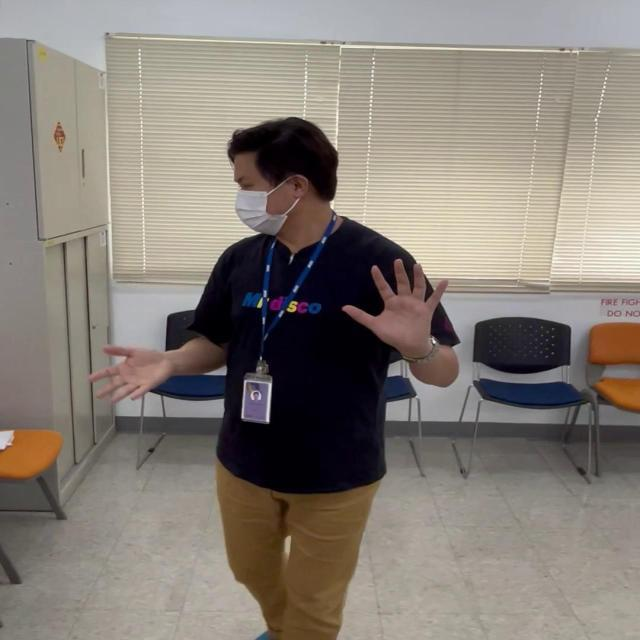bare_hand: (340, 255, 452, 350), (87, 340, 171, 404)
